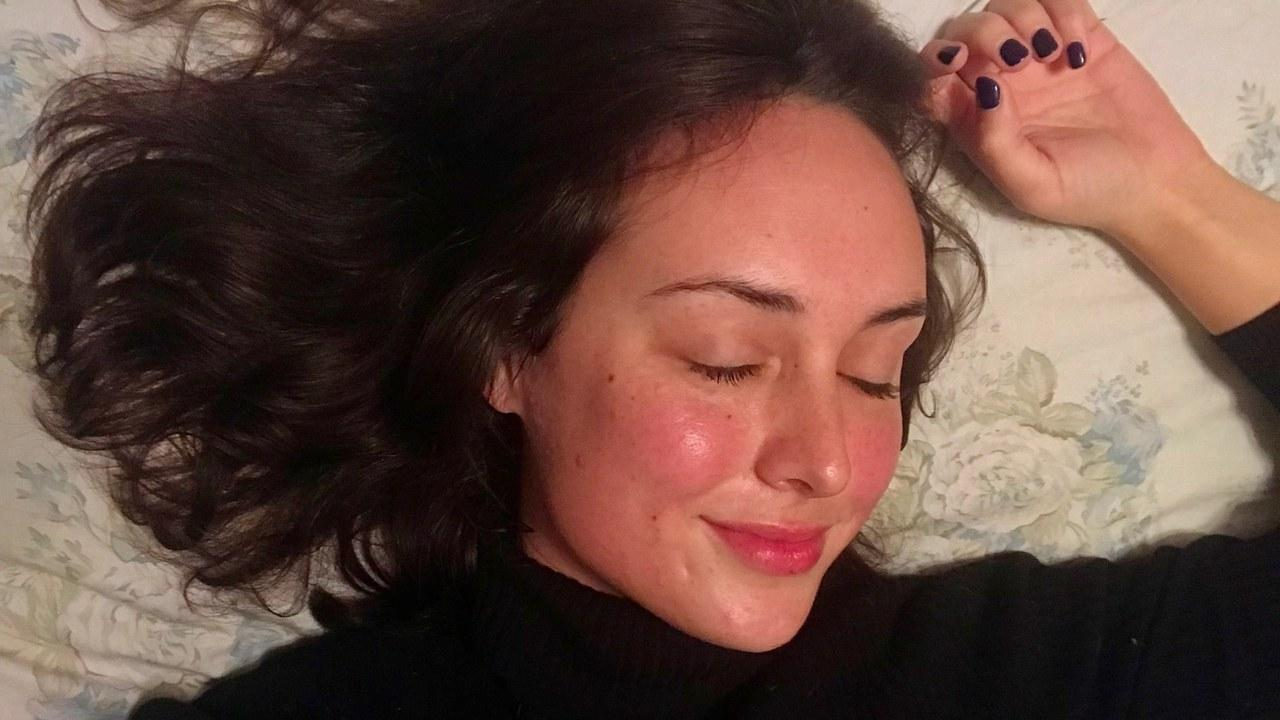Drunk: (575, 135, 910, 628)
